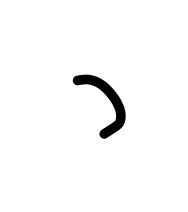a: (64, 61, 140, 152)
